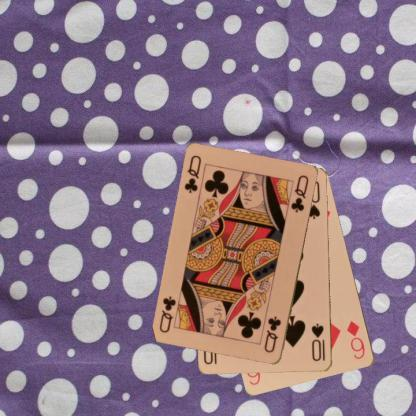10s: (309, 321, 327, 363)
6d: (344, 318, 366, 361)
Qc: (182, 152, 203, 194), (262, 314, 282, 354)
